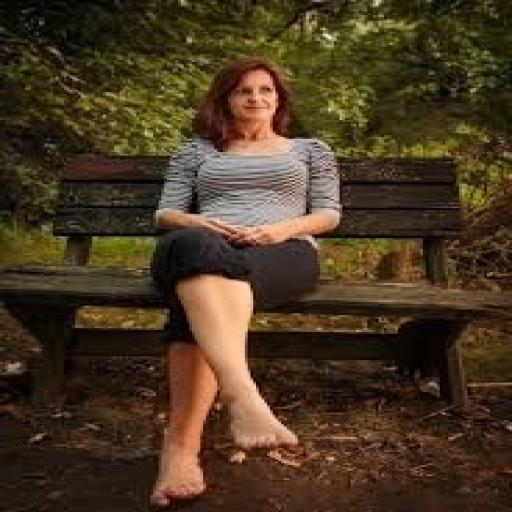sitting: (145, 56, 345, 508)
